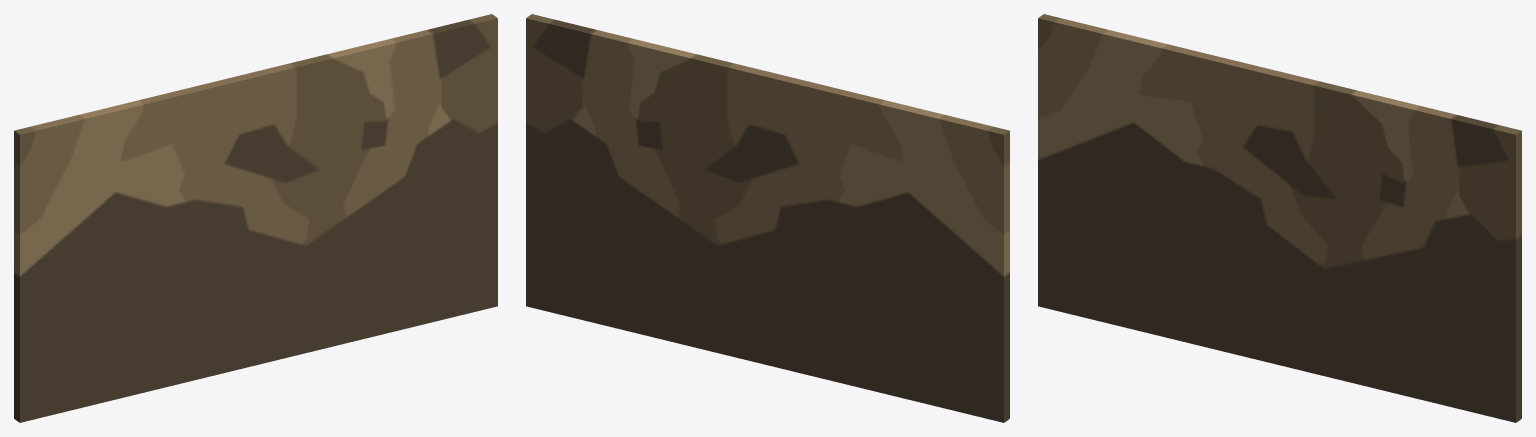
File: SM_Prop_Flag_01.glb
3 views of the same model, side by side, from view 1: azimuth 30°, elevation 25°; view 2: azimuth 150°, elevation 25°; view 3: azimuth 330°, elevation 25° (orthographic).
Parts seen in each view (by area): view 1: SM_Prop_Flag_01; view 2: SM_Prop_Flag_01; view 3: SM_Prop_Flag_01.
Part boxes in pixels (x1,y1,x2,y2): SM_Prop_Flag_01: [14, 14, 497, 422]; SM_Prop_Flag_01: [526, 14, 1009, 422]; SM_Prop_Flag_01: [1038, 14, 1521, 422].
Bounding box in the file's own units: 1.66 × 0.9549 × 0.0349.
1 material, 1 textured.
